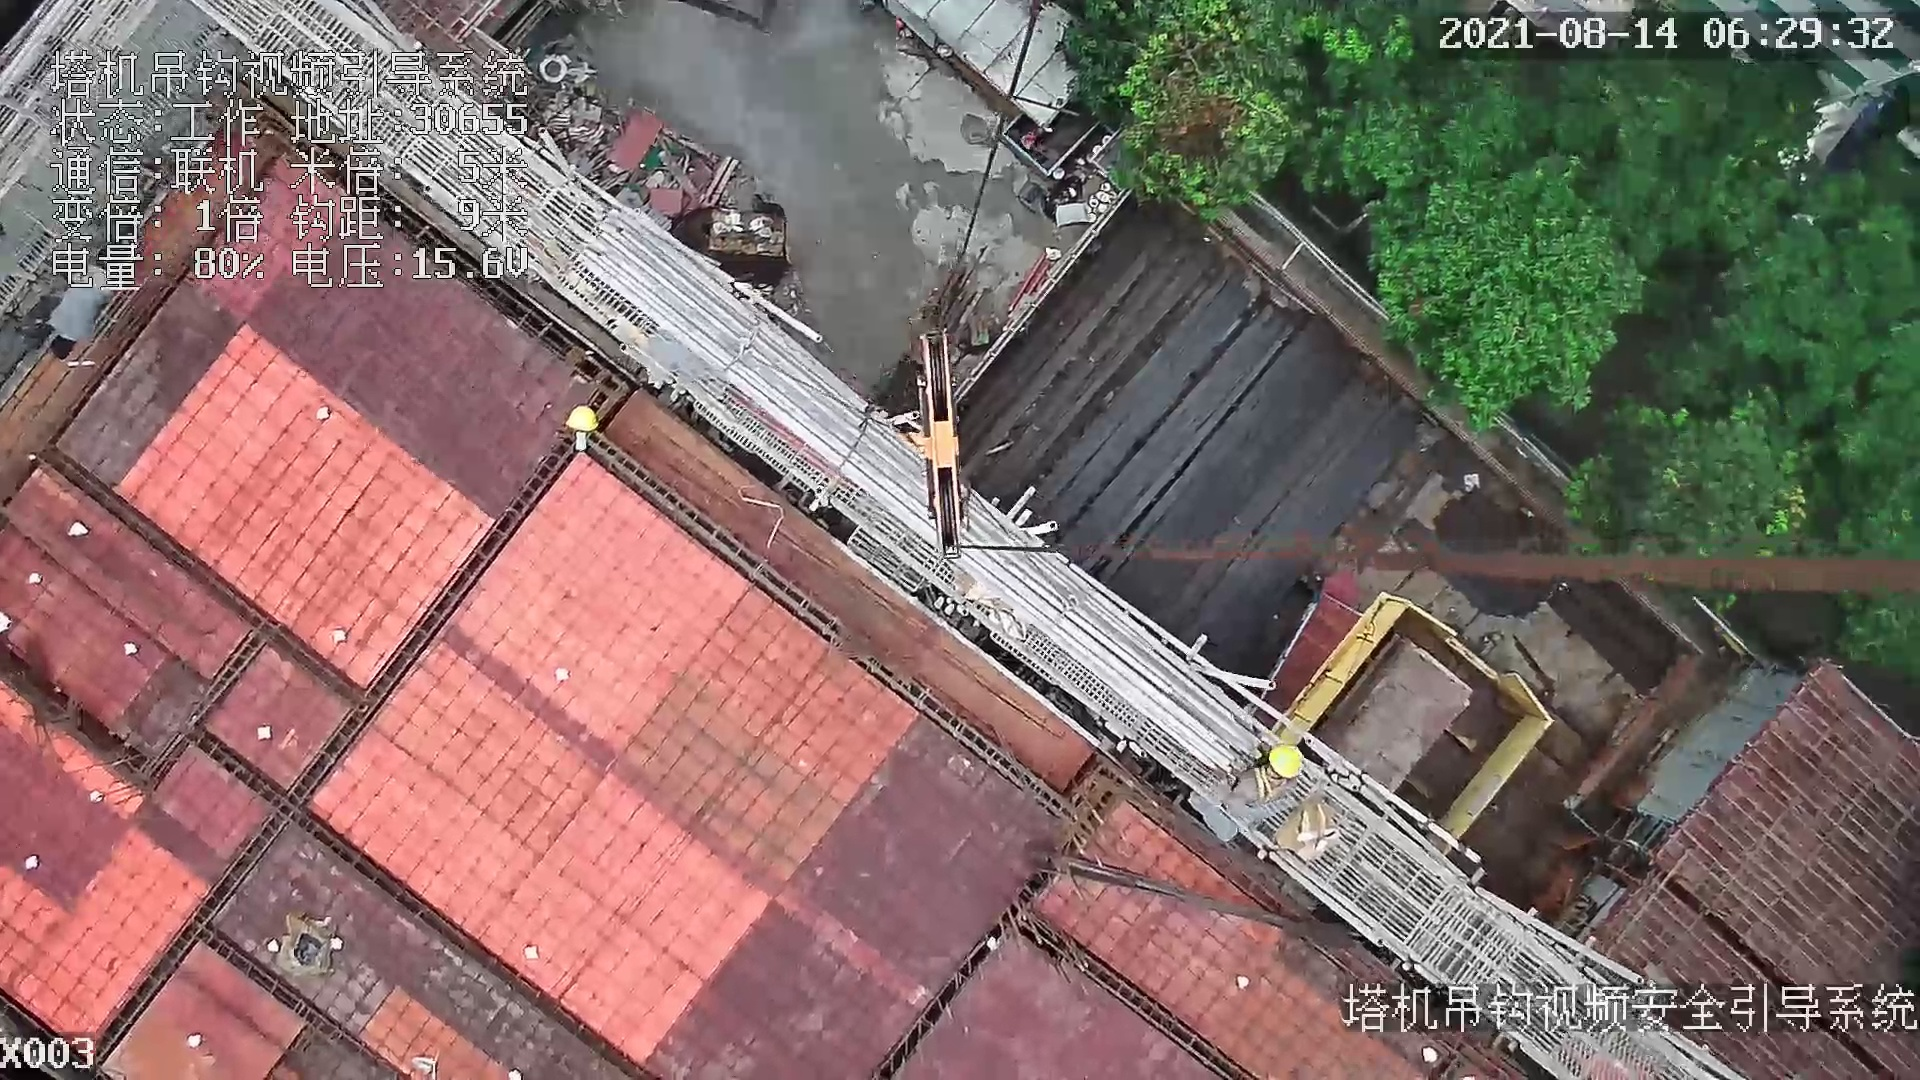helmet: (1270, 747, 1306, 783), (564, 404, 599, 430)
hook: (908, 333, 967, 559)
person: (1222, 727, 1312, 822)
rebar: (1004, 221, 1396, 653)
